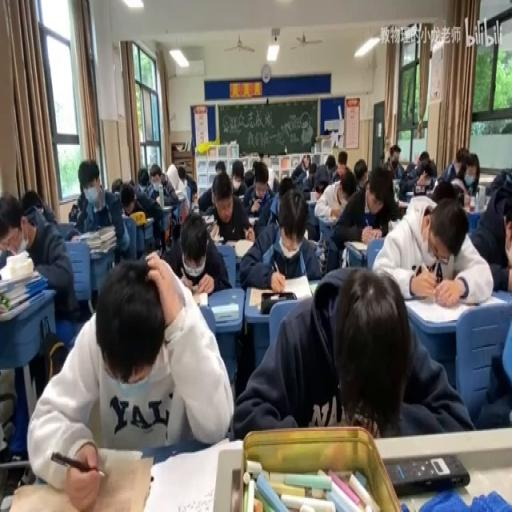calculator: (142, 442, 230, 511), (405, 290, 503, 324), (246, 279, 310, 307), (130, 212, 156, 254), (0, 266, 38, 292), (210, 300, 238, 322), (233, 238, 254, 256), (190, 288, 208, 306), (346, 239, 368, 252), (363, 212, 377, 227), (209, 222, 219, 242), (320, 214, 338, 224), (398, 199, 408, 216), (222, 240, 236, 252), (306, 238, 319, 248), (308, 282, 318, 294), (393, 179, 400, 195), (247, 214, 258, 224), (190, 202, 200, 213), (202, 213, 214, 222), (404, 189, 414, 199), (160, 204, 173, 210), (302, 192, 310, 201), (144, 216, 154, 223), (215, 236, 225, 243)
paper: (27, 253, 228, 501), (231, 262, 466, 436), (374, 192, 494, 303), (0, 189, 78, 327), (240, 184, 322, 288), (322, 162, 380, 266), (74, 157, 130, 263), (162, 208, 228, 294), (397, 149, 435, 199), (196, 162, 230, 213), (438, 146, 477, 190), (143, 164, 178, 206), (117, 181, 145, 219), (482, 168, 510, 205), (177, 164, 196, 202), (501, 218, 511, 283), (384, 142, 402, 176), (229, 158, 245, 196), (21, 188, 43, 213), (353, 158, 369, 192), (292, 154, 310, 184), (331, 150, 347, 180), (251, 160, 267, 184), (278, 176, 294, 196), (266, 165, 277, 192), (67, 202, 79, 223), (64, 226, 81, 240), (138, 166, 150, 185), (111, 178, 123, 193), (244, 168, 254, 186), (306, 162, 316, 179), (456, 165, 466, 182), (214, 160, 226, 174), (316, 180, 327, 194), (455, 188, 464, 205), (418, 165, 428, 179), (457, 154, 464, 168), (326, 163, 334, 175)
person: (385, 452, 470, 494)
